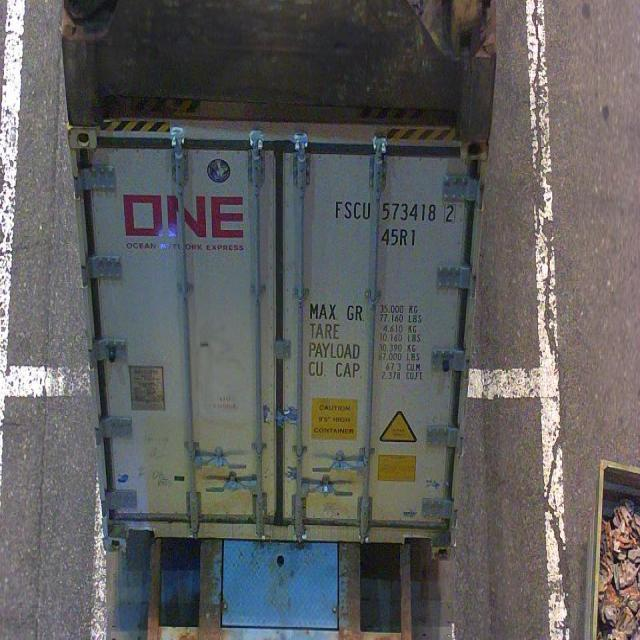ISO: (383, 225, 418, 246)
container_number: (332, 200, 456, 223)
